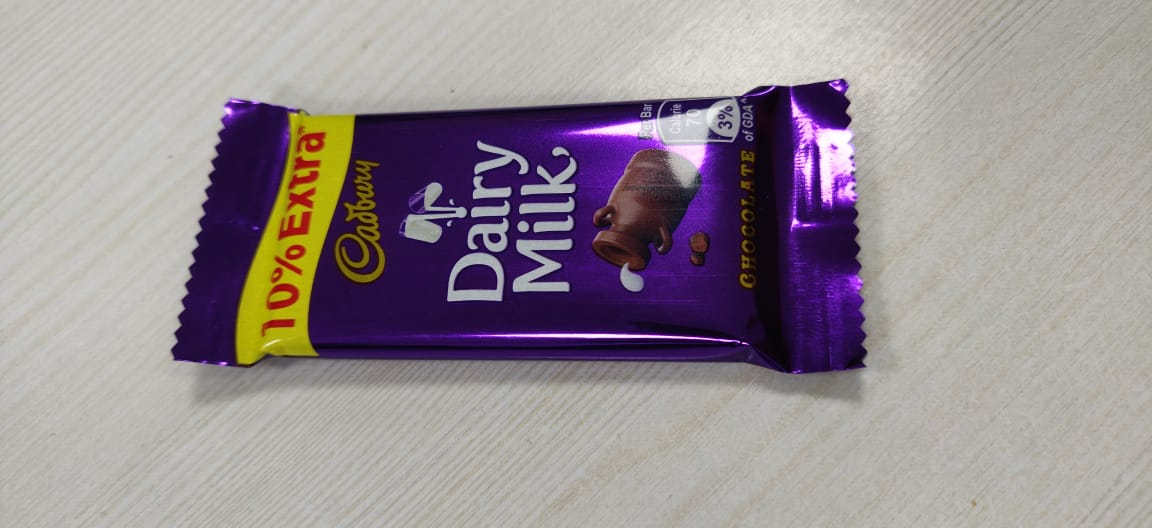dairy milk: (163, 76, 882, 386)
